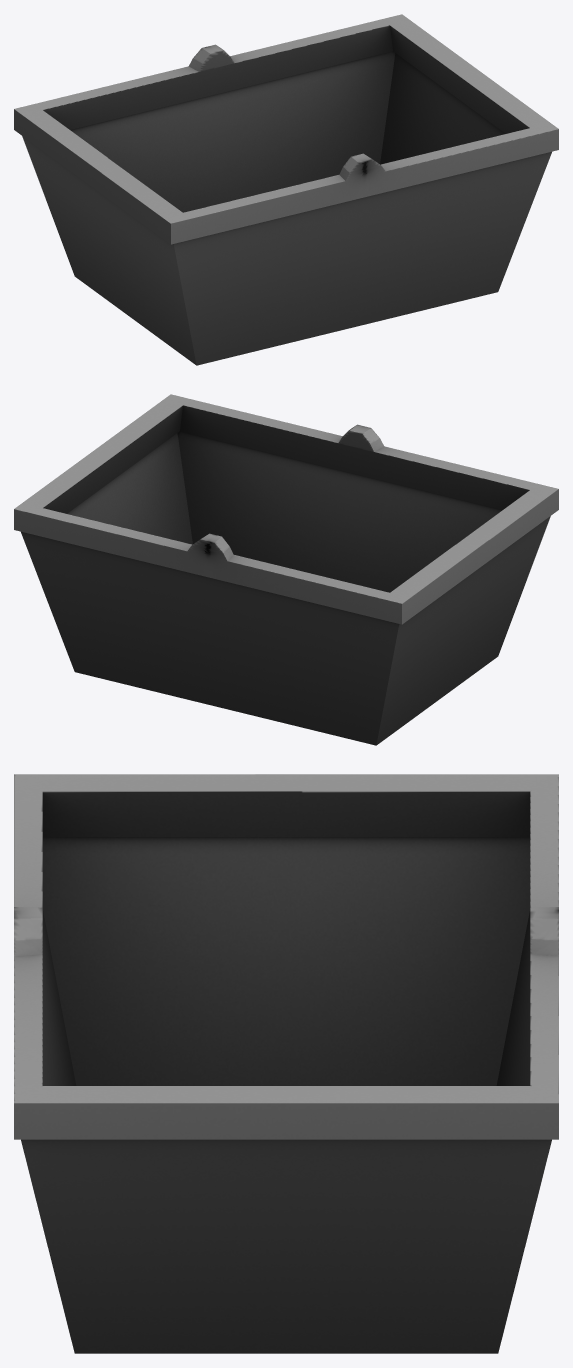
The model's file is single_basket_no_handle.fbx.
3 renders of one model, top to bottom at view 1: azimuth 30°, elevation 25°; view 2: azimuth 150°, elevation 25°; view 3: azimuth 270°, elevation 25°, orthographic. The views are drawn at different scales.
Visible parts, largest first — view 1: Plane; view 2: Plane; view 3: Plane.
Boxes of the visible parts, x1,y1,x2,y2 form: Plane: (14,14,558,365); Plane: (14,394,558,745); Plane: (14,774,558,1353).
Size of the model in its own units: 77.87 by 34.59 by 54.51.
